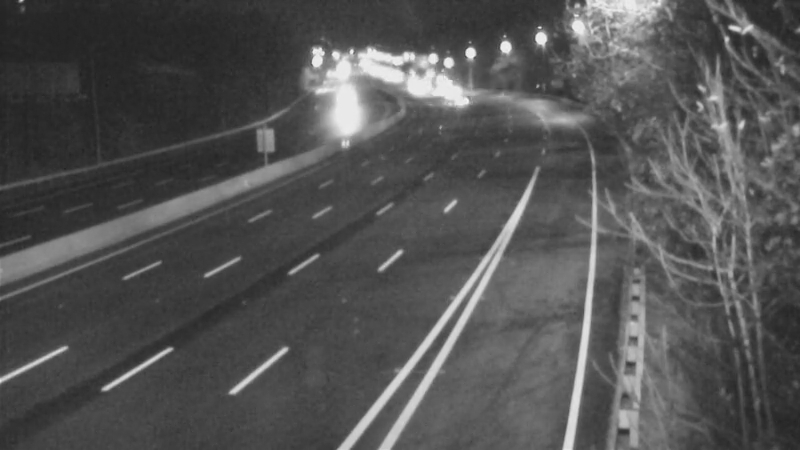vehicle: (404, 69, 454, 119), (434, 76, 484, 126), (318, 69, 368, 119)
